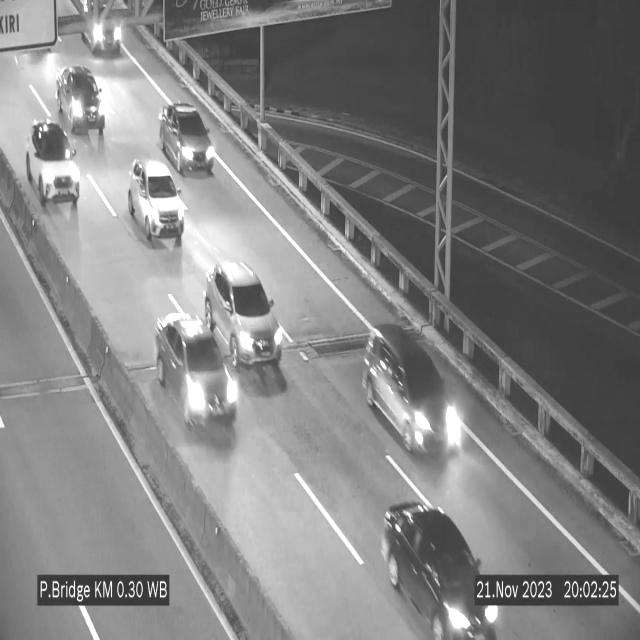Car: (384, 494, 498, 640), (362, 312, 458, 454), (155, 314, 239, 436), (204, 262, 284, 372), (29, 123, 83, 213), (128, 159, 184, 243), (159, 102, 215, 174), (54, 66, 106, 135)
